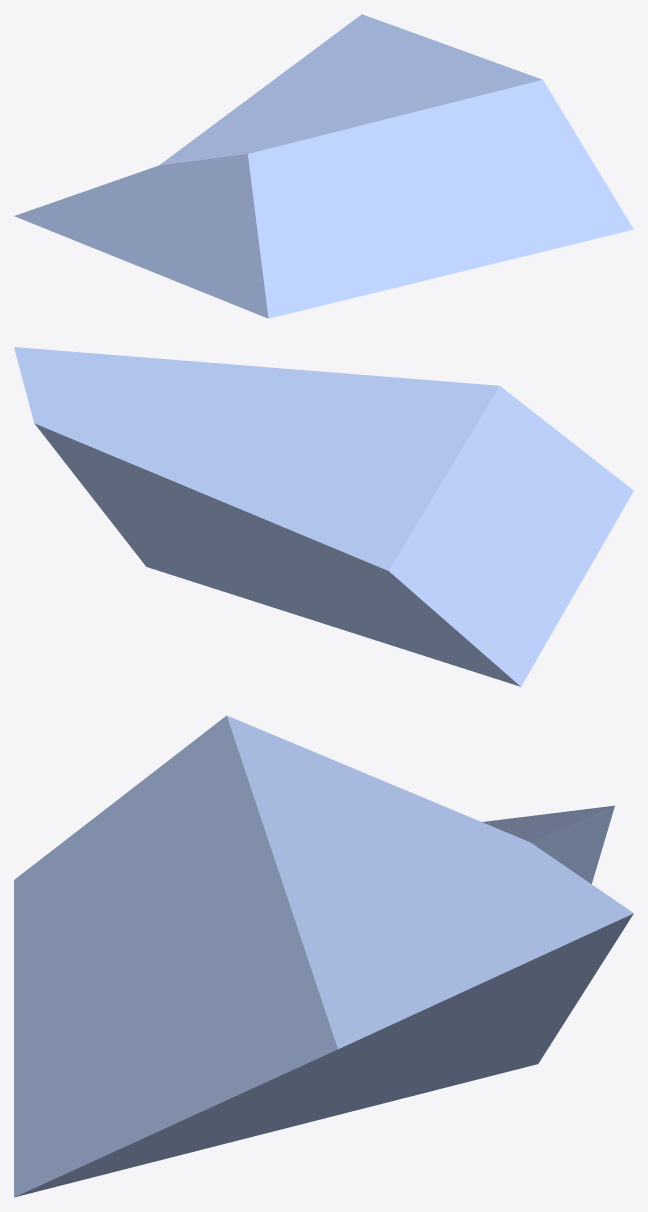
Rendered from Pebble 2.fbx.
3 views of the same model, one above another, from view 1: azimuth 30°, elevation 25°; view 2: azimuth 150°, elevation 25°; view 3: azimuth 270°, elevation 25° (orthographic). The views are drawn at different scales.
Visible parts, largest first — view 1: Cube.029; view 2: Cube.029; view 3: Cube.029.
Part boxes in pixels (x1,y1,x2,y2): Cube.029: (14,14,633,318); Cube.029: (14,347,633,686); Cube.029: (14,715,633,1197).
Bounding box in the file's own units: 2.27 × 0.5388 × 1.52.
